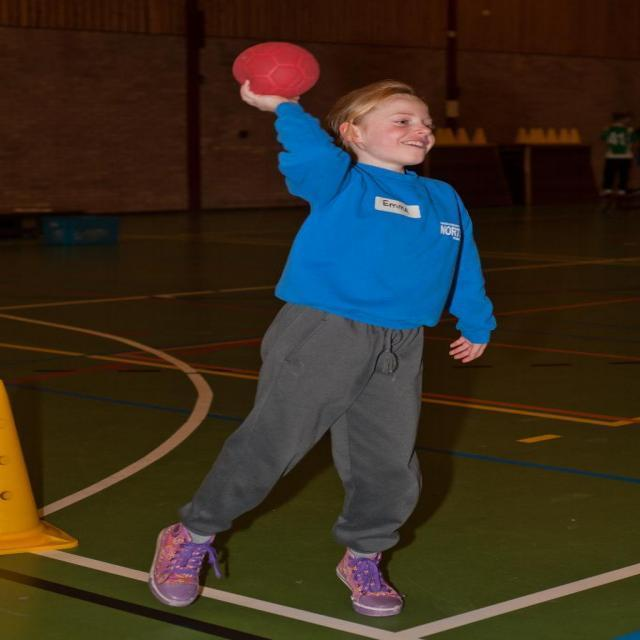ball: (226, 43, 322, 100)
